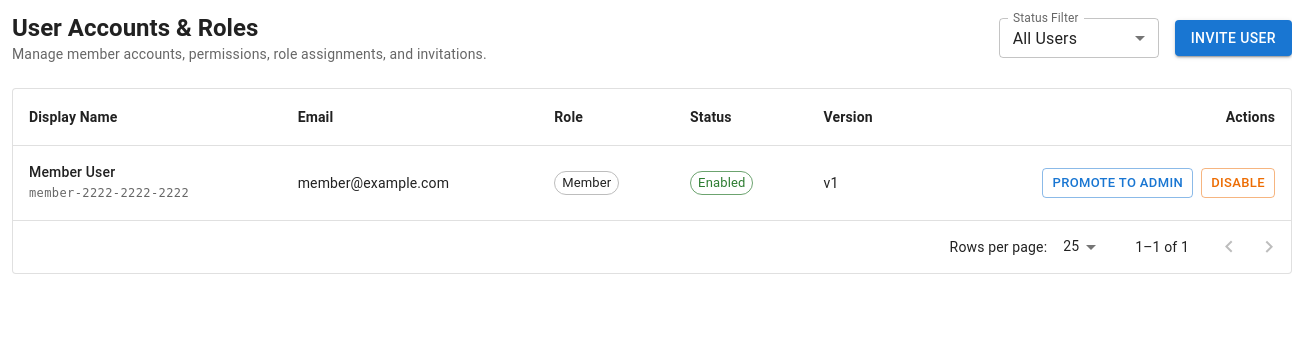
Test case: Admin Users & Roles (Spec 7.1, 4.2 E27-E29) › handles stale user 412 by refetching and warning user
Check: the text "Member User" is shown, box [29,164,115,180]
Step 1. Click the button with aria-label "Disable Member User" → point(1238, 183), box [1201,168,1275,198]
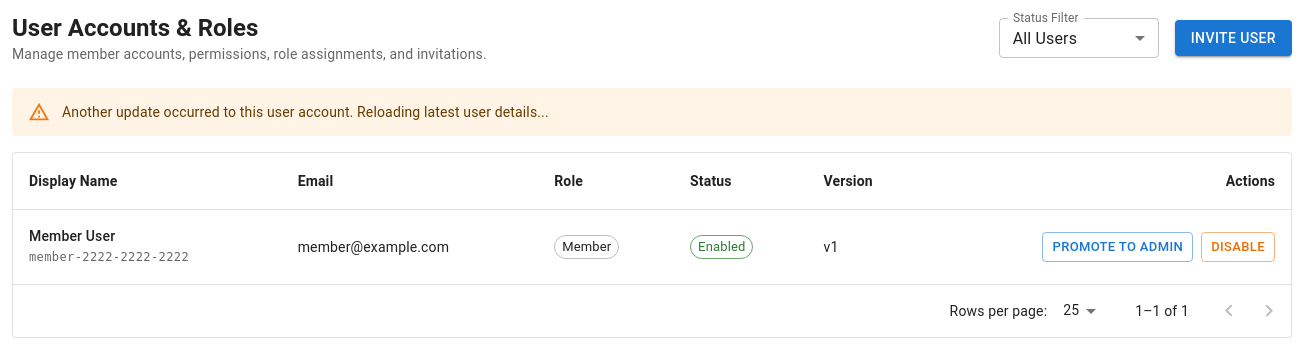
Check: the text "Another update occurred to this user account" is shown, box [62,104,549,120]
